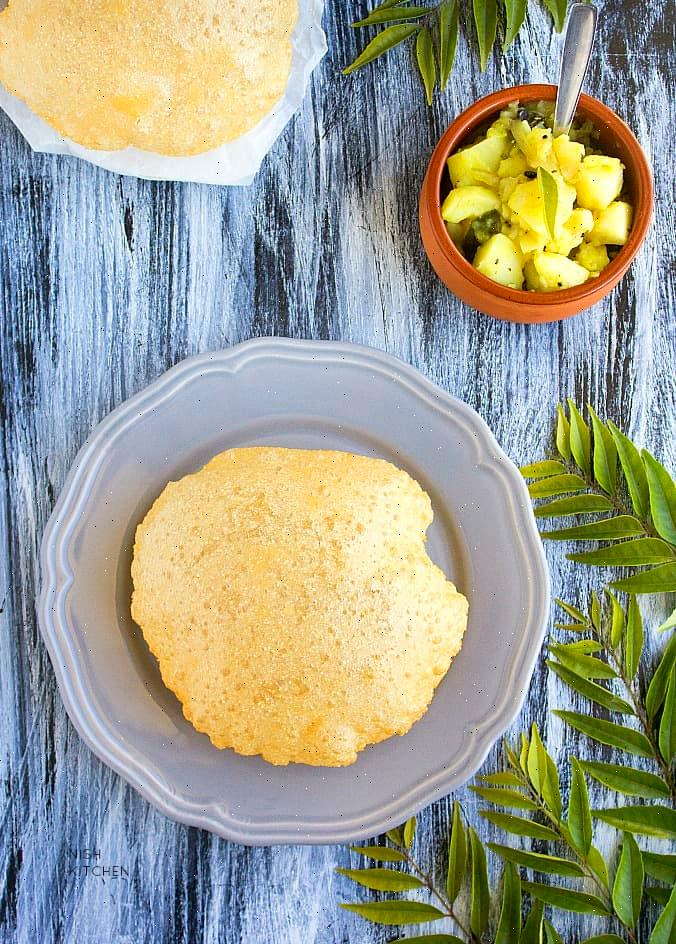puri: (133, 460, 475, 773)
